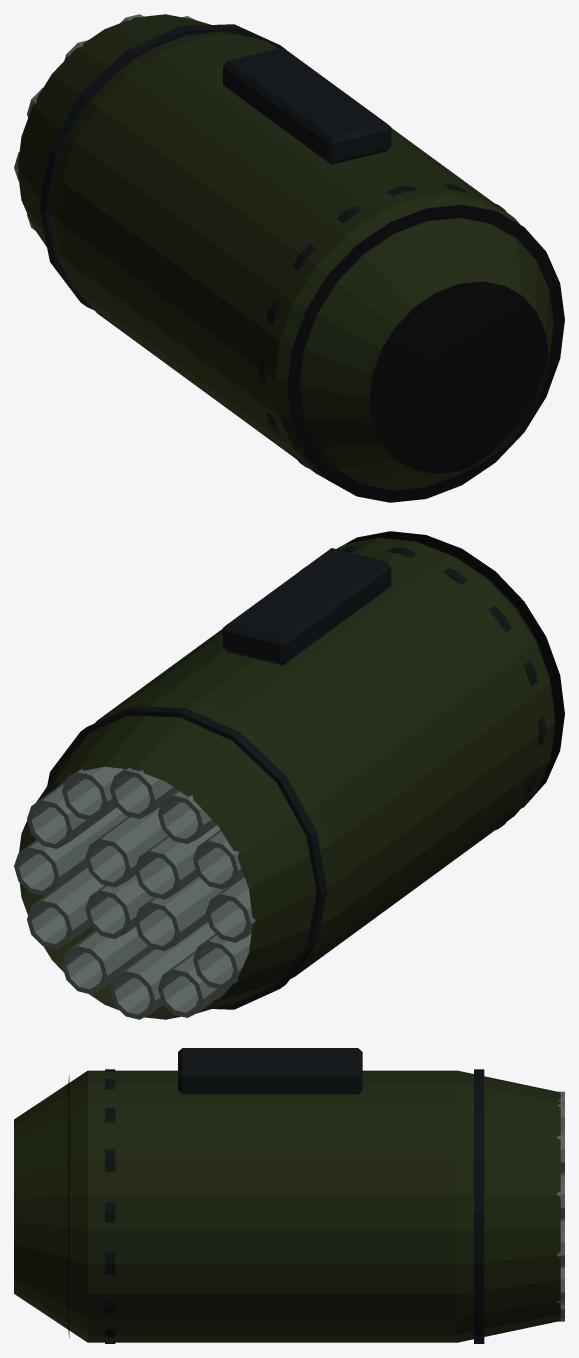
The model's file is Rocket57Sixteen__Empty.obj.
3 views of the same model, one above another, from view 1: azimuth 30°, elevation 25°; view 2: azimuth 150°, elevation 25°; view 3: azimuth 270°, elevation 25° (orthographic). The views are drawn at different scales.
Parts seen in each view (by area): view 1: Pod_aerodynamic_outer_shell, Rear_bulkhead, Mount_lug, Identification_band.001, Identification_band; view 2: Pod_aerodynamic_outer_shell, Mount_lug, Identification_band.001, Rear_bulkhead, Tube_05, Tube_14, Tube_03, Tube_01, Tube_15, Tube_16, Tube_02, Tube_04 (+9 smaller); view 3: Pod_aerodynamic_outer_shell, Mount_lug, Identification_band.001, Identification_band, Rear_bulkhead.
Boxes of the visible parts, x1=… form: Pod_aerodynamic_outer_shell: x1=18, y1=14, x2=553, y2=490; Rear_bulkhead: x1=287, y1=204, x2=564, y2=502; Mount_lug: x1=223, y1=47, x2=391, y2=164; Identification_band.001: x1=39, y1=24, x2=285, y2=310; Identification_band: x1=258, y1=184, x2=506, y2=468; Pod_aerodynamic_outer_shell: x1=19, y1=537, x2=555, y2=1019; Mount_lug: x1=223, y1=548, x2=391, y2=665; Identification_band.001: x1=47, y1=706, x2=327, y2=1009; Rear_bulkhead: x1=337, y1=531, x2=564, y2=807; Tube_05: x1=14, y1=807, x2=127, y2=895; Tube_14: x1=110, y1=922, x2=215, y2=1019; Tube_03: x1=134, y1=877, x2=227, y2=951; Tube_01: x1=85, y1=807, x2=167, y2=887; Tube_15: x1=62, y1=926, x2=152, y2=994; Tube_16: x1=27, y1=866, x2=104, y2=949; Tube_02: x1=134, y1=825, x2=220, y2=899; Tube_04: x1=85, y1=875, x2=153, y2=938; Pod_aerodynamic_outer_shell: x1=14, y1=1070, x2=560, y2=1342; Mount_lug: x1=178, y1=1048, x2=362, y2=1094; Identification_band.001: x1=474, y1=1069, x2=484, y2=1343; Identification_band: x1=105, y1=1069, x2=115, y2=1343; Rear_bulkhead: x1=68, y1=1075, x2=69, y2=1338.
Size of the model in its own units: 0.7444 by 0.8122 by 1.49.
